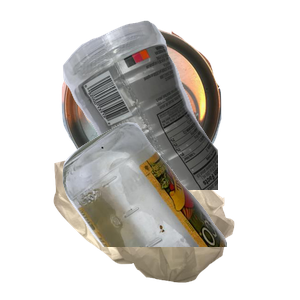glass: (60, 120, 300, 300)
metal: (59, 10, 273, 189)
plastic: (60, 18, 300, 198)
trash: (51, 142, 278, 300)
